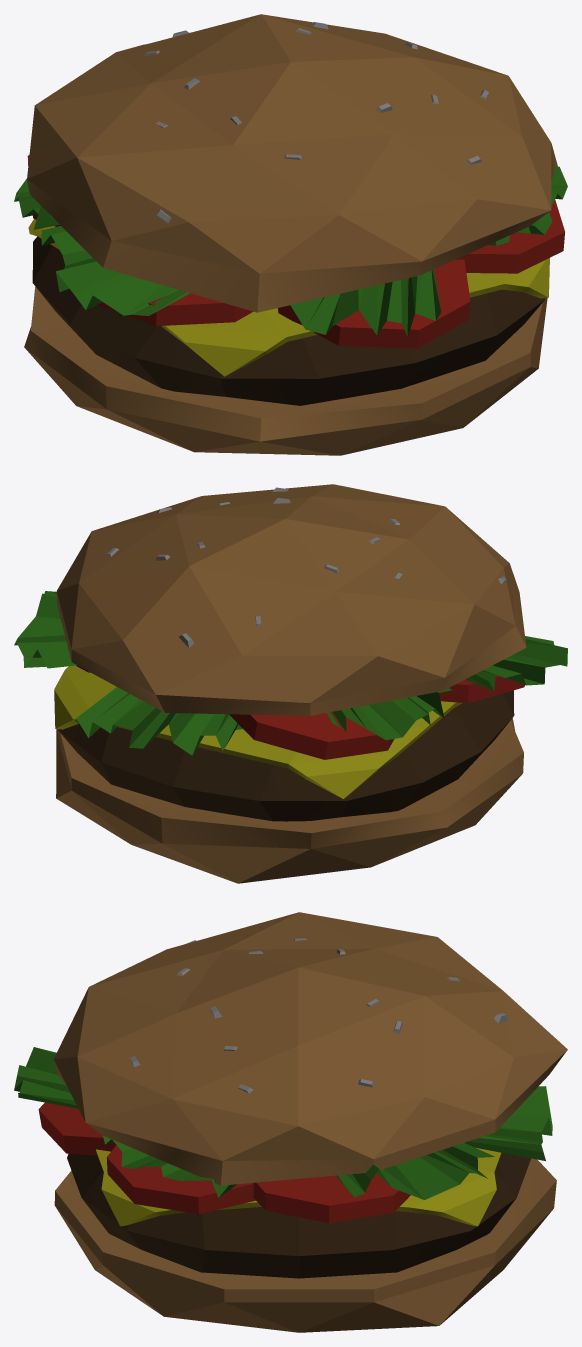
Rendered from burger.obj.
3 views of the same model, one above another, from view 1: azimuth 30°, elevation 25°; view 2: azimuth 150°, elevation 25°; view 3: azimuth 270°, elevation 25° (orthographic). The views are drawn at different scales.
Visible parts, largest first — view 1: Burger_burger; view 2: Burger_burger; view 3: Burger_burger.
Boxes of the visible parts, x1,y1,x2,y2 form: Burger_burger: (14, 14, 567, 455); Burger_burger: (14, 484, 567, 883); Burger_burger: (14, 912, 567, 1332).
Size of the model in its own units: 49.56 by 31.96 by 51.
